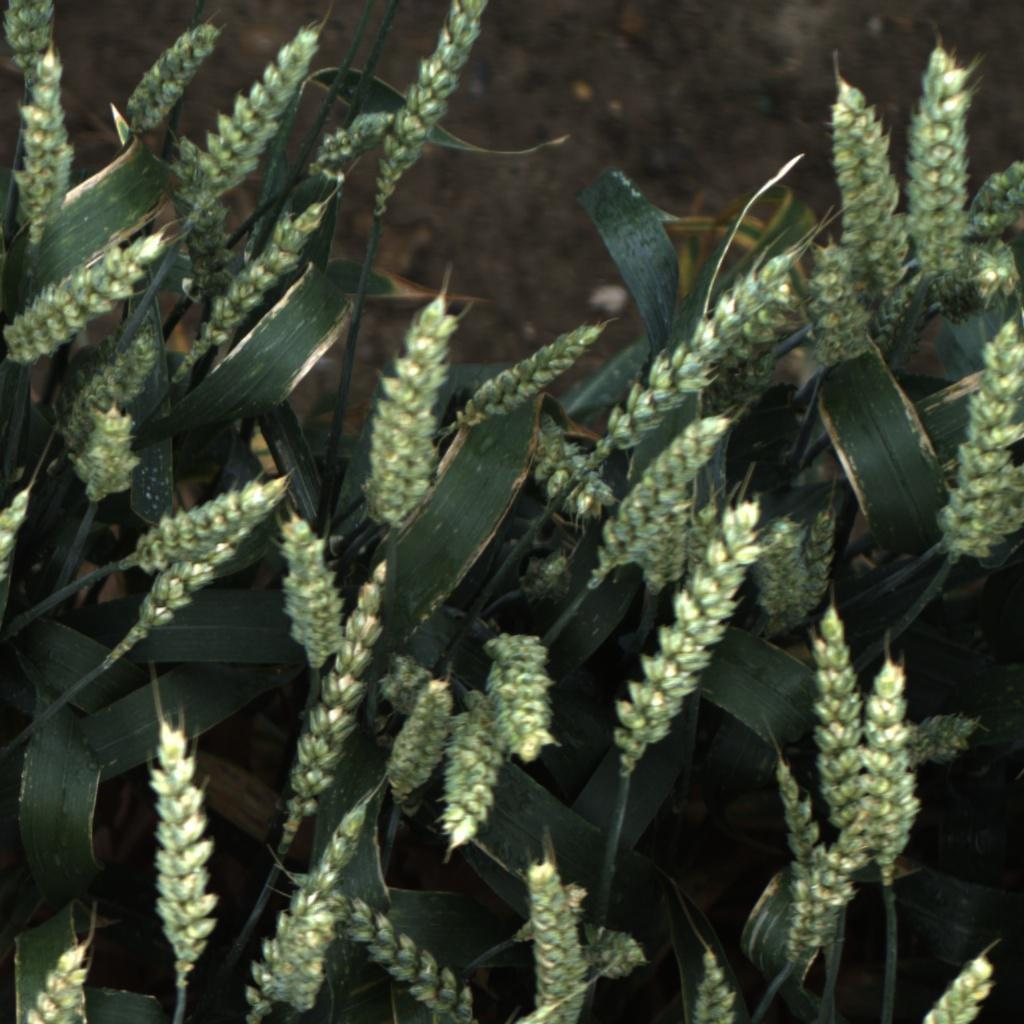0-0: (588, 241, 801, 472), (604, 492, 769, 785), (281, 551, 395, 833), (289, 866, 486, 1024), (363, 0, 495, 228), (187, 17, 329, 228), (582, 406, 736, 598), (350, 284, 455, 538), (816, 59, 916, 325), (179, 194, 331, 361), (2, 224, 174, 371), (936, 303, 1024, 566), (902, 31, 983, 312), (142, 710, 224, 978), (119, 463, 298, 578), (809, 598, 886, 861), (457, 312, 609, 432), (264, 514, 358, 674), (37, 301, 159, 424), (863, 660, 927, 883), (9, 49, 77, 244), (58, 331, 166, 453), (772, 751, 830, 973), (758, 496, 845, 642), (438, 682, 510, 857), (239, 881, 325, 1024), (479, 622, 562, 767), (130, 535, 244, 639), (169, 129, 232, 317), (122, 15, 220, 130), (519, 851, 584, 1024), (801, 234, 881, 374), (528, 415, 617, 536), (300, 789, 383, 914), (930, 230, 1023, 333), (711, 277, 803, 380), (387, 673, 459, 801), (0, 932, 93, 1024), (303, 102, 403, 182), (952, 152, 1024, 258), (912, 947, 1001, 1024), (750, 509, 818, 609), (868, 279, 934, 380), (904, 698, 992, 773), (72, 407, 138, 506), (812, 822, 876, 923), (507, 875, 593, 949), (0, 0, 64, 97), (515, 537, 588, 619), (679, 940, 750, 1024), (374, 646, 441, 733), (577, 919, 660, 983), (635, 521, 696, 604), (679, 496, 724, 593), (0, 482, 32, 589), (993, 455, 1024, 543)
